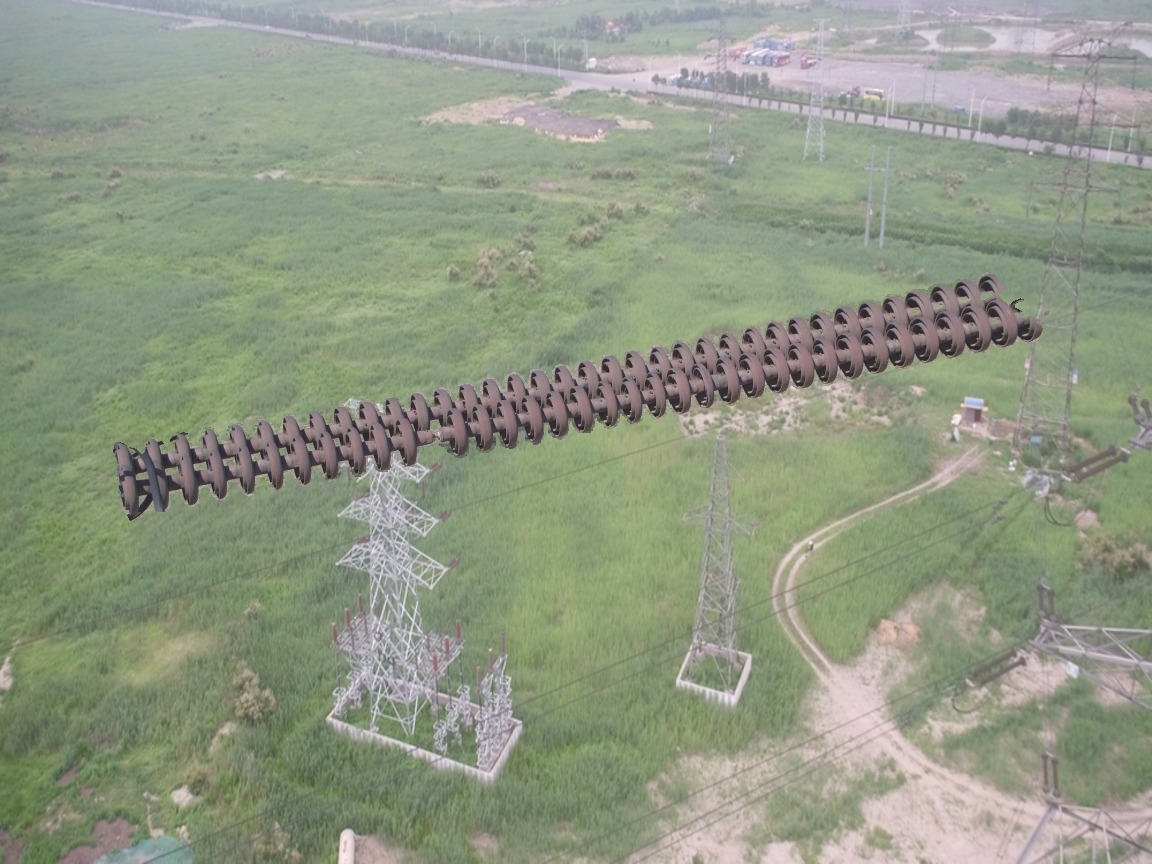defect: (392, 406, 474, 465)
